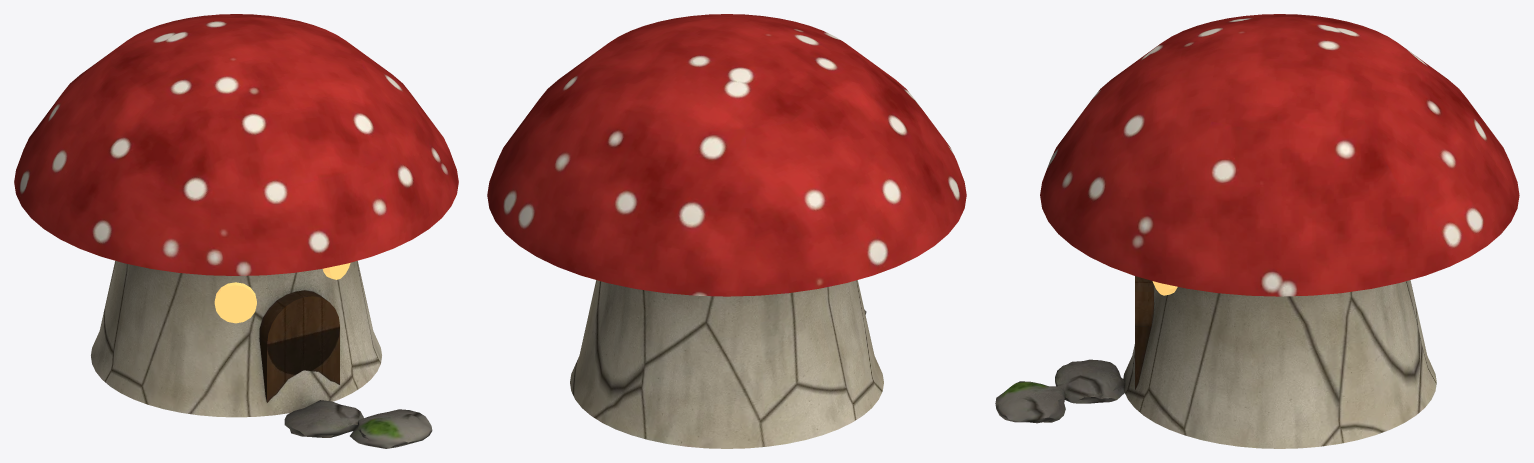
Rendered from mushroom.glb.
3 renders of one model, left to right at view 1: azimuth 30°, elevation 25°; view 2: azimuth 150°, elevation 25°; view 3: azimuth 270°, elevation 25°, orthographic. The views are drawn at different scales.
Visible parts, largest first — view 1: Mushroom, GlowWindows; view 2: Mushroom; view 3: Mushroom.
Boxes of the visible parts, x1,y1,x2,y2 form: Mushroom: (14,14,458,448); GlowWindows: (214,263,350,323); Mushroom: (487,14,966,448); Mushroom: (995,14,1519,448).
Size of the model in its own units: 1.16 by 0.9373 by 1.27.
2 materials, 1 textured.
